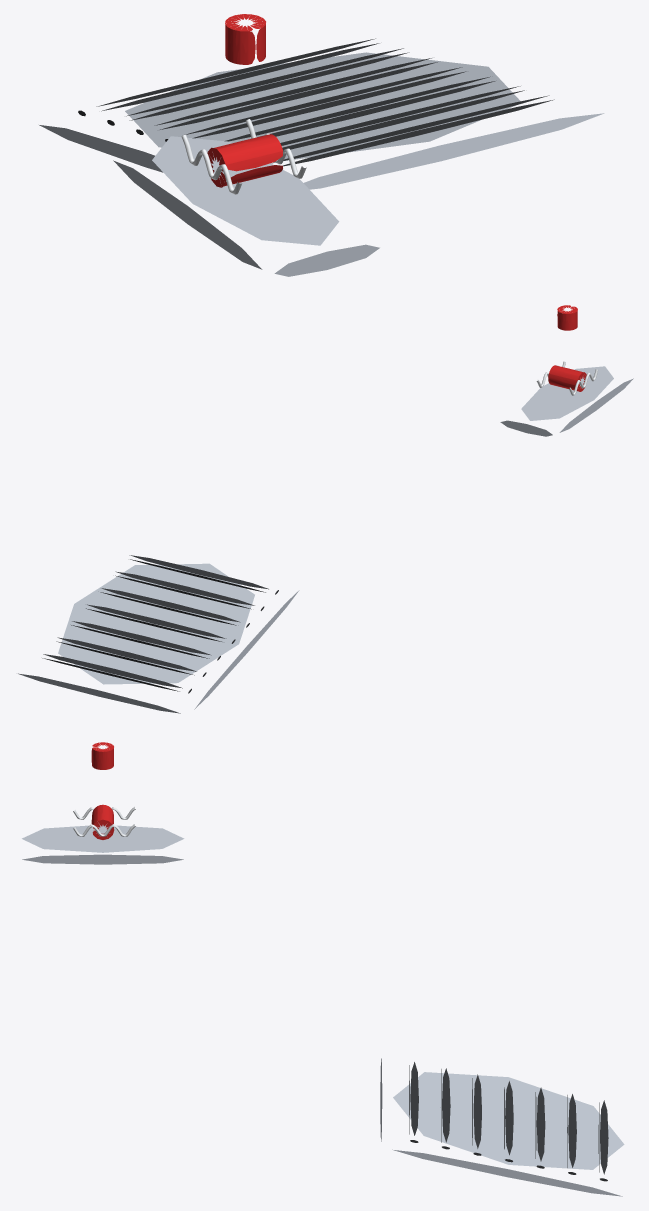
File: sequential_shifter_gate.glb
3 renders of one model, top to bottom at view 1: azimuth 30°, elevation 25°; view 2: azimuth 150°, elevation 25°; view 3: azimuth 270°, elevation 25°, orthographic. The views are drawn at different scales.
Parts seen in each view (by area): view 1: Shifter_Linkage_Heel_Plate_Assembly; view 2: Shifter_Linkage_Heel_Plate_Assembly; view 3: Shifter_Linkage_Heel_Plate_Assembly.
Part boxes in pixels (x1,y1,x2,y2): Shifter_Linkage_Heel_Plate_Assembly: (39,14,604,276); Shifter_Linkage_Heel_Plate_Assembly: (18,305,633,713); Shifter_Linkage_Heel_Plate_Assembly: (22,742,624,1196).
Bounding box in the file's own units: 0.535 × 0.3928 × 0.7673.
